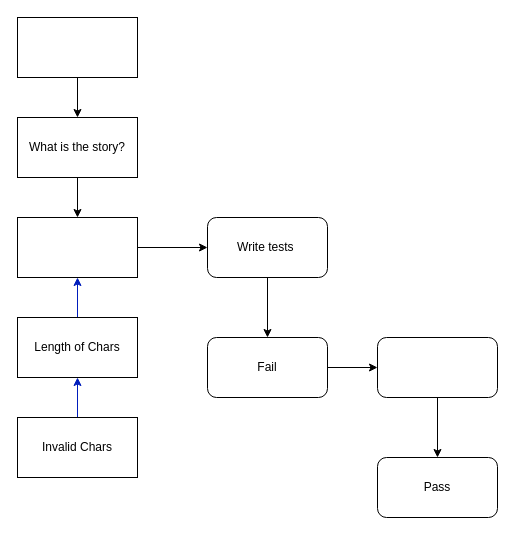
This 515x535 diagram has some shape labels left out. Each missing label, with the centre of its shape:
Code function: pixel 437 367
Valid & invalid inputs: pixel 77 247
What is the problem?: pixel 77 47
